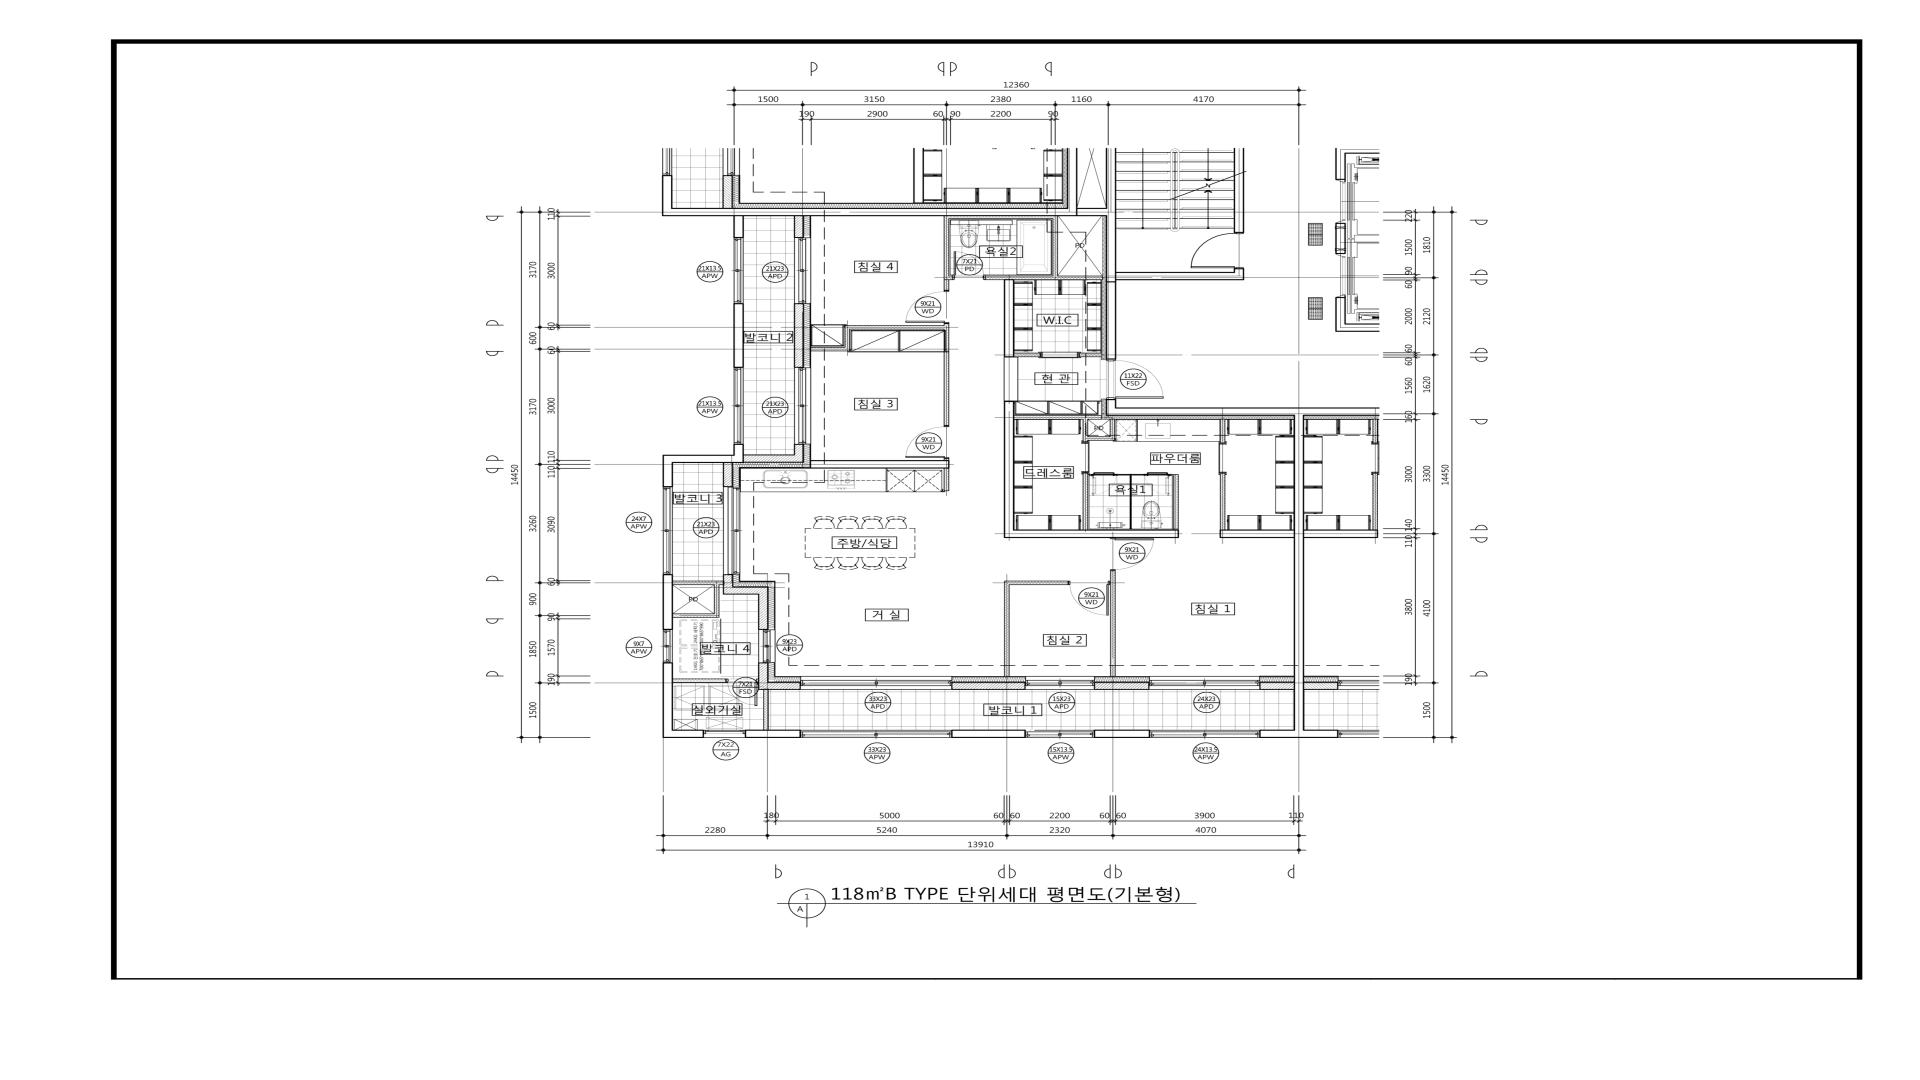door: (1106, 360, 1164, 400), (905, 426, 949, 460), (1068, 580, 1110, 616), (905, 291, 949, 323), (1110, 538, 1154, 570), (952, 251, 985, 280), (727, 679, 758, 707)
wall: (1106, 400, 1305, 738), (733, 208, 1117, 360), (1004, 401, 1179, 538), (944, 216, 1102, 357), (810, 323, 949, 426), (1004, 580, 1069, 676), (673, 575, 769, 630), (1220, 473, 1294, 538), (810, 460, 949, 492), (662, 444, 744, 487), (662, 662, 704, 737), (758, 662, 800, 729), (744, 444, 804, 463), (951, 729, 1026, 738), (733, 303, 744, 368), (794, 303, 804, 368), (662, 574, 673, 630), (951, 682, 1026, 690), (1110, 570, 1116, 676), (745, 729, 800, 738), (1095, 729, 1150, 738), (1095, 682, 1150, 690), (1259, 682, 1295, 690), (723, 463, 733, 487), (794, 216, 804, 237), (673, 679, 727, 683), (1079, 352, 1102, 357), (1220, 419, 1225, 443)
window: (800, 676, 952, 690), (723, 487, 741, 575), (1150, 675, 1259, 690), (794, 368, 812, 444), (800, 729, 951, 738), (794, 237, 811, 303), (1150, 729, 1259, 738), (662, 487, 673, 574), (1026, 676, 1095, 690), (733, 368, 744, 444), (733, 237, 744, 303), (1026, 729, 1095, 738), (758, 630, 775, 663), (703, 729, 745, 738), (662, 629, 673, 663)
